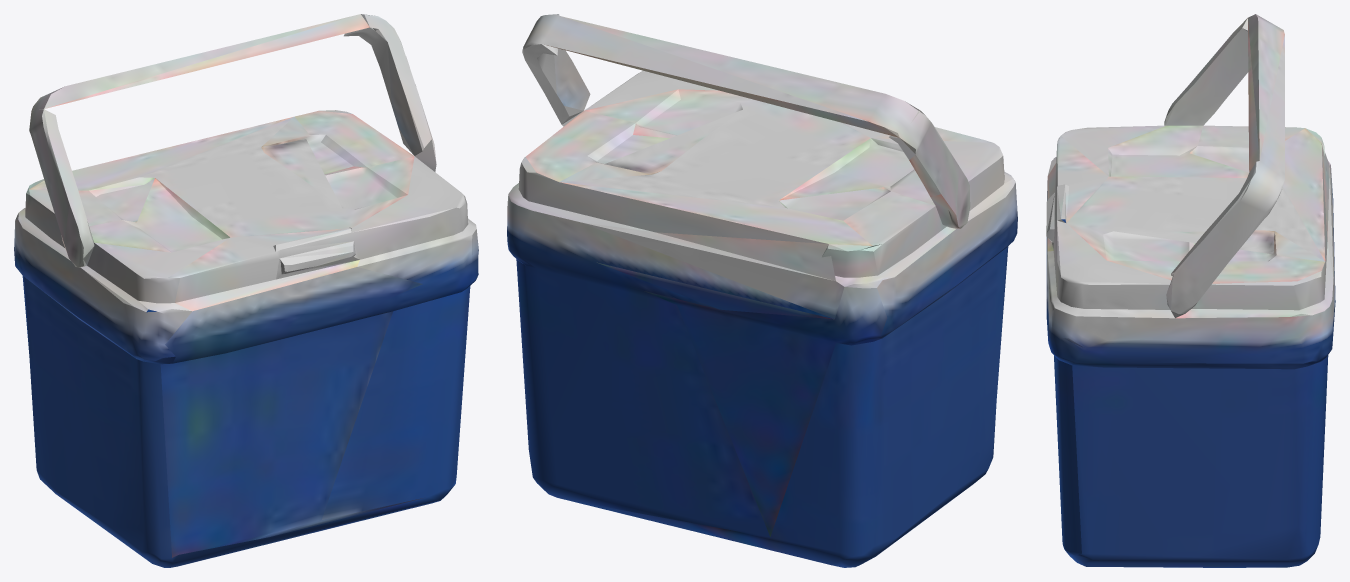
File: ice-cooler.glb
3 views of the same model, side by side, from view 1: azimuth 30°, elevation 25°; view 2: azimuth 150°, elevation 25°; view 3: azimuth 270°, elevation 25° (orthographic). The views are drawn at different scales.
Visible parts, largest first — view 1: Mesh_0.10495; view 2: Mesh_0.10495; view 3: Mesh_0.10495.
Boxes of the visible parts, x1,y1,x2,y2 form: Mesh_0.10495: (14,14,478,567); Mesh_0.10495: (507,14,1017,567); Mesh_0.10495: (1046,14,1335,567).
Size of the model in its own units: 0.4005 by 0.45 by 0.2842.
1 material, 1 textured.
